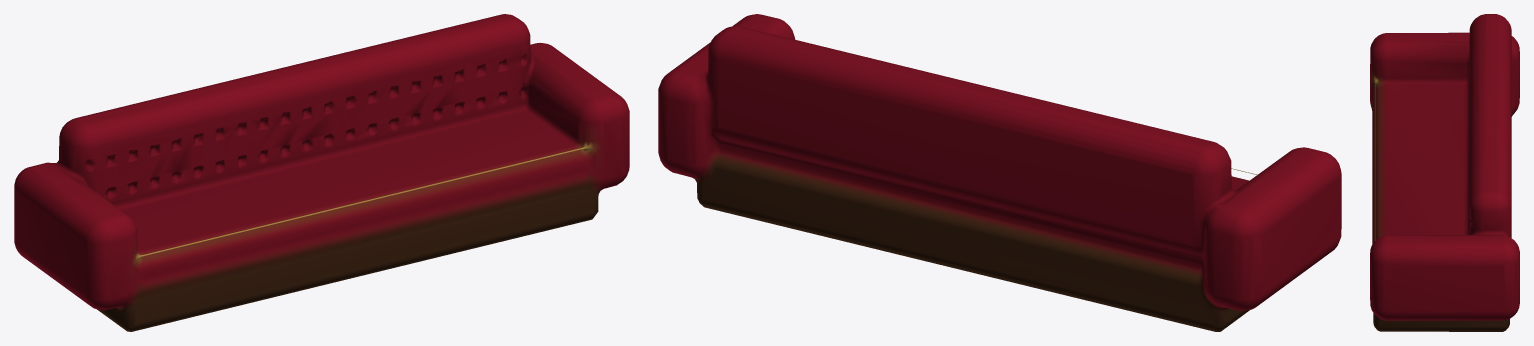
The model's file is lumiere-lounge-sofa.glb.
The picture shows the model from 3 angles, left to right: view 1: azimuth 30°, elevation 25°; view 2: azimuth 150°, elevation 25°; view 3: azimuth 270°, elevation 25°; orthographic projection. The views are drawn at different scales.
Parts seen in each view (by area): view 1: lumiere-lounge-sofa_LOD0; view 2: lumiere-lounge-sofa_LOD0; view 3: lumiere-lounge-sofa_LOD0.
Part boxes in pixels (x1,y1,x2,y2): lumiere-lounge-sofa_LOD0: (14,14,629,331); lumiere-lounge-sofa_LOD0: (658,14,1341,331); lumiere-lounge-sofa_LOD0: (1370,14,1519,331).
Size of what is drawn, in the model's own units: 3.24 by 0.9 by 0.9198.
